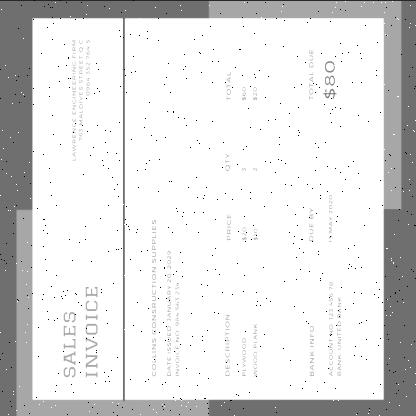Paragraph: (147, 214, 185, 380), (59, 280, 102, 382), (306, 277, 347, 379), (66, 32, 94, 166), (304, 43, 340, 105), (304, 190, 338, 247)
Table: (220, 62, 264, 384)
